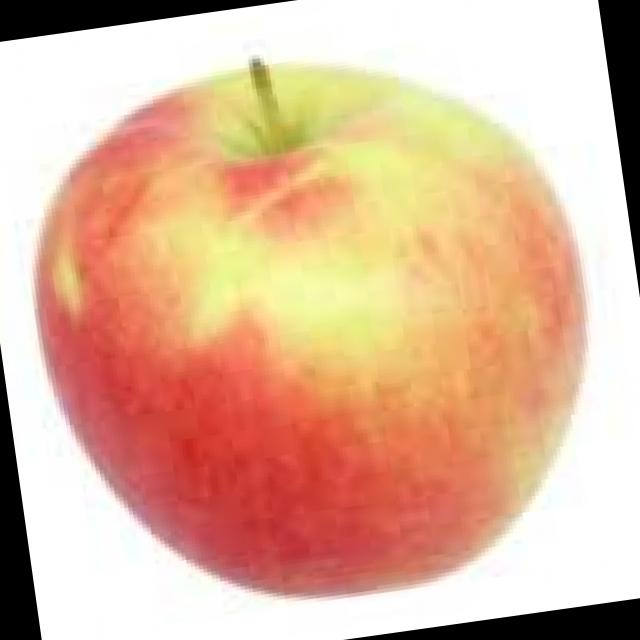apple: (0, 24, 630, 637)
